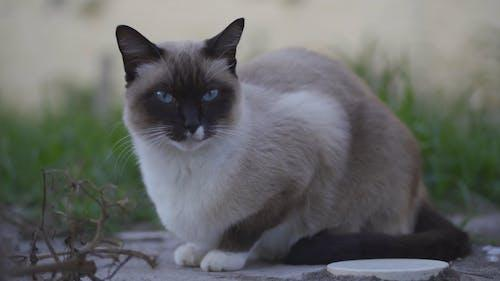siamese: (115, 16, 250, 155)
